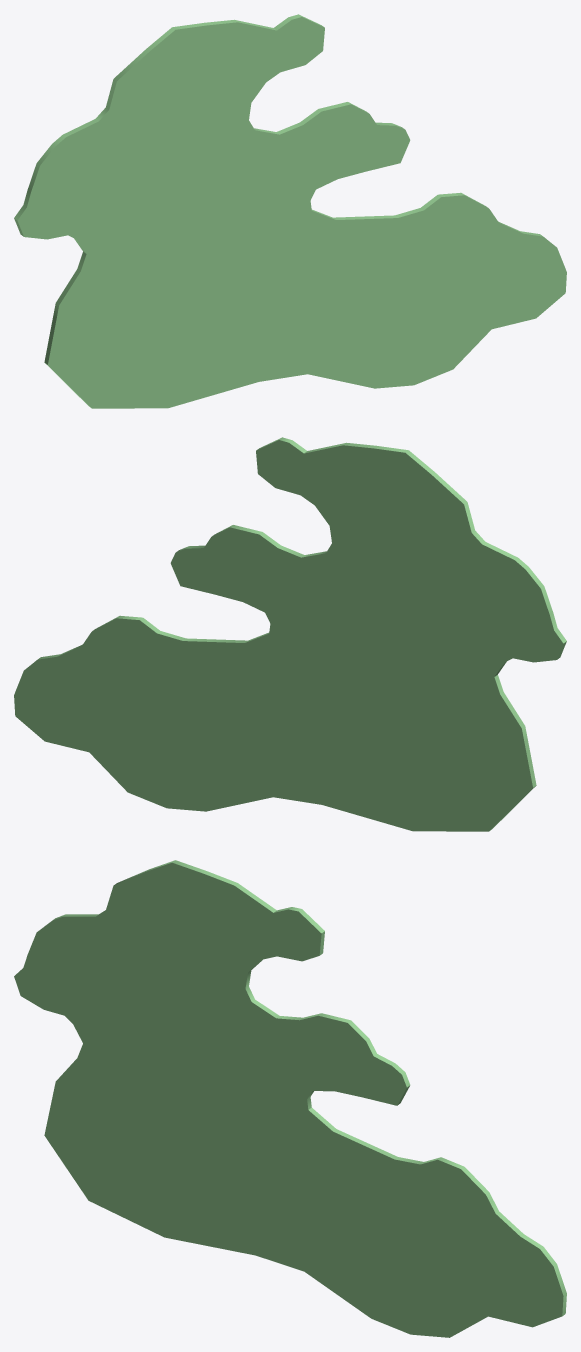
Rendered from cloud_01_06.fbx.
3 renders of one model, top to bottom at view 1: azimuth 30°, elevation 25°; view 2: azimuth 150°, elevation 25°; view 3: azimuth 330°, elevation 25°, orthographic.
Parts seen in each view (by area): view 1: Plane011; view 2: Plane011; view 3: Plane011.
Boxes of the visible parts, <box> form: Plane011: <box>14,14,566,408</box>; Plane011: <box>14,437,566,831</box>; Plane011: <box>14,860,566,1337</box>.
Size of the model in its own units: 4072 by 2930 by 44.47.
